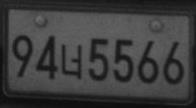4: (34, 34, 59, 80)
5: (111, 38, 135, 82), (87, 37, 109, 82)
6: (162, 41, 185, 86), (137, 40, 159, 83)
9: (11, 34, 33, 77)
너: (60, 43, 83, 80)
